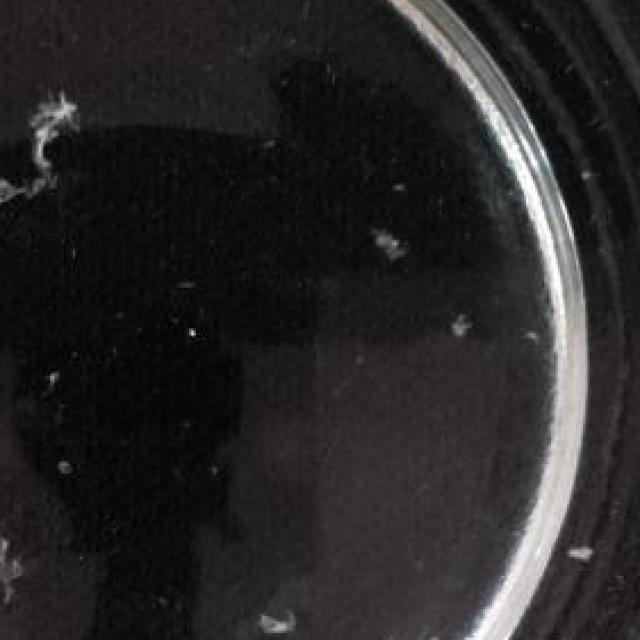Microplastic: (0, 78, 84, 242), (367, 190, 421, 272), (235, 585, 314, 640), (0, 507, 39, 614)
